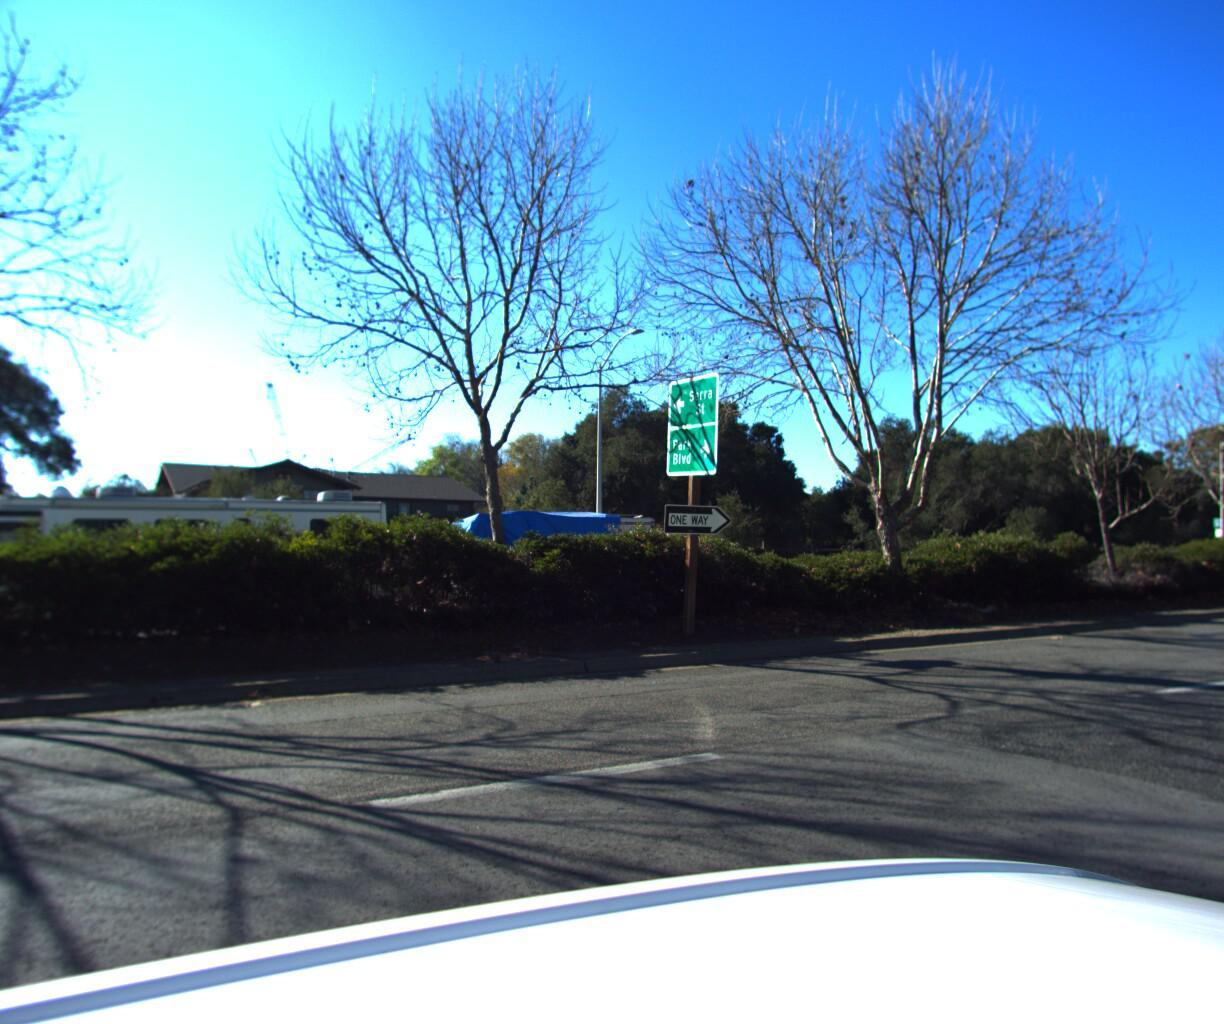other_vehicle: (0, 450, 405, 622), (431, 504, 666, 618)
